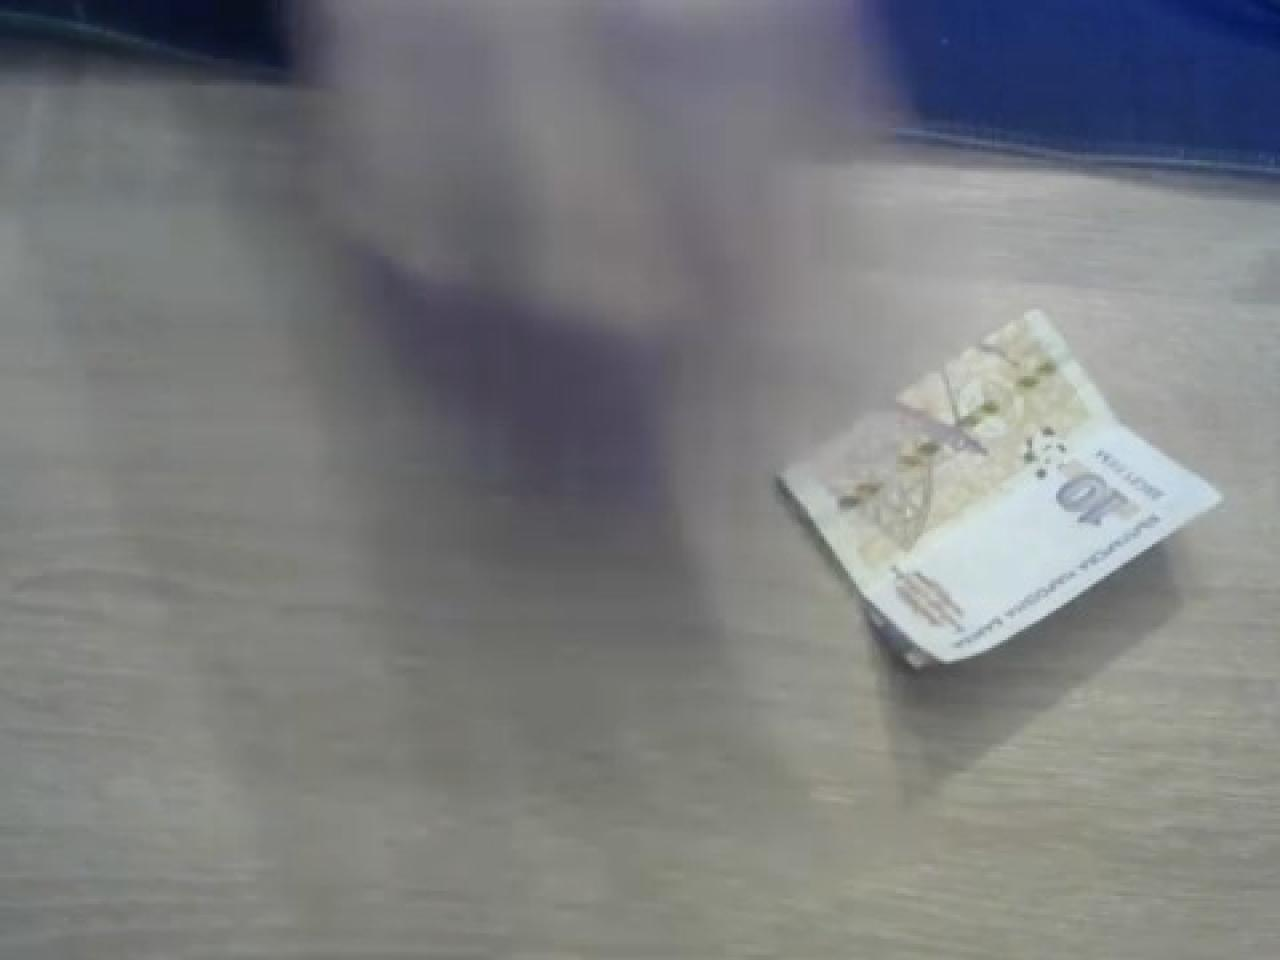10leva: (771, 302, 1222, 675)
